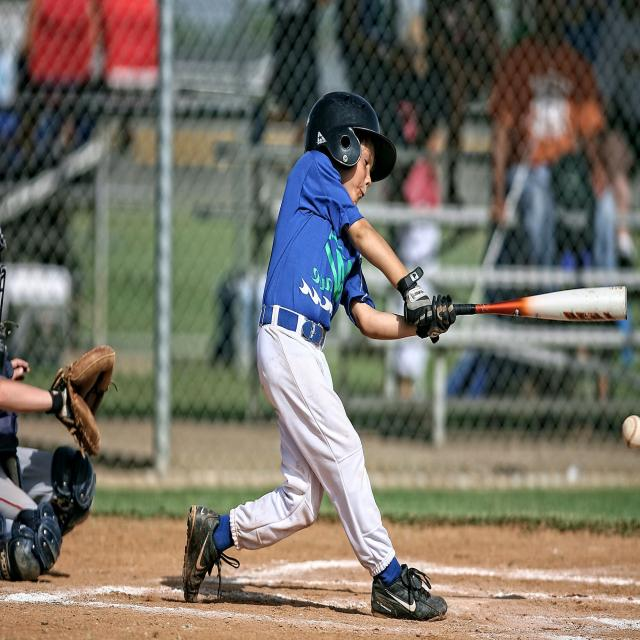adult: (183, 88, 453, 614)
